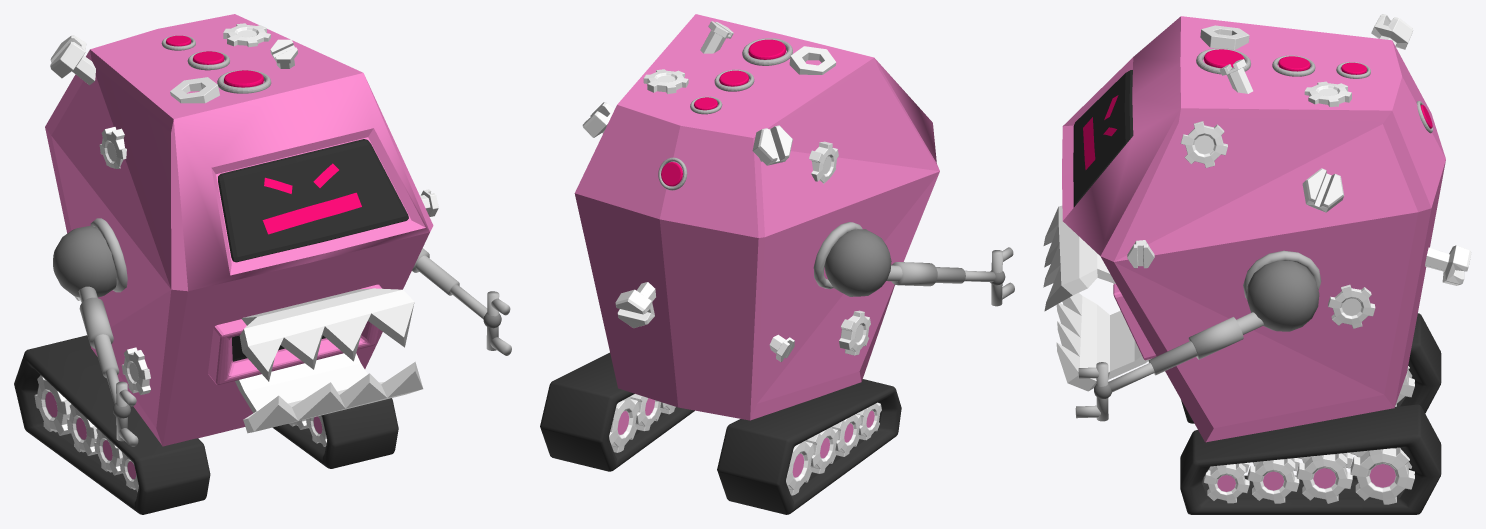
The model's file is enemy_pink.fbx.
3 views of the same model, side by side, from view 1: azimuth 30°, elevation 25°; view 2: azimuth 150°, elevation 25°; view 3: azimuth 270°, elevation 25° (orthographic). The views are drawn at different scales.
Visible parts, largest first — view 1: enemy, enemy.002, enemy.003, enemy.001; view 2: enemy, enemy.002, enemy.001, enemy.003; view 3: enemy, enemy.002, enemy.001, enemy.003.
Part boxes in pixels (box(x1,y1,x2,y2)): enemy: box(34, 14, 438, 492); enemy.002: box(14, 335, 398, 514); enemy.003: box(78, 248, 511, 446); enemy.001: box(53, 218, 127, 297); enemy: box(574, 14, 939, 495); enemy.002: box(540, 352, 901, 514); enemy.001: box(813, 222, 891, 296); enemy.003: box(886, 247, 1014, 306); enemy: box(1043, 14, 1471, 504); enemy.002: box(1180, 313, 1441, 514); enemy.001: box(1243, 250, 1321, 331); enemy.003: box(1075, 312, 1263, 421).
Bounding box in the file's own units: 245 × 252 × 236.
